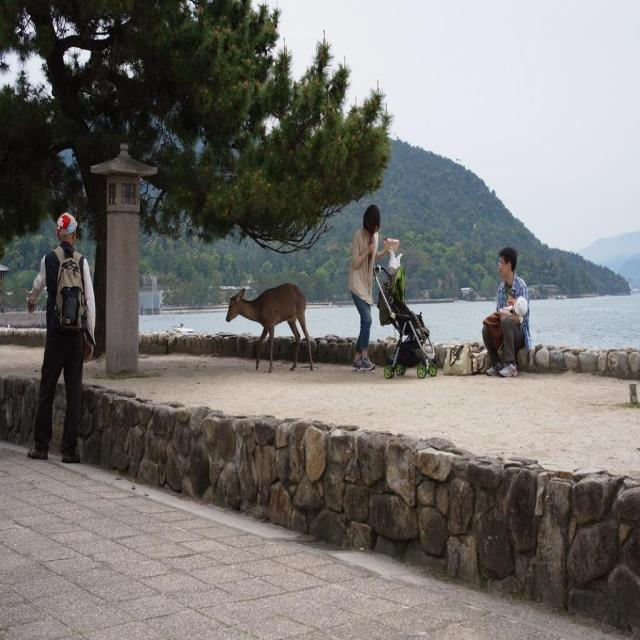Deer: (225, 287, 314, 367)
